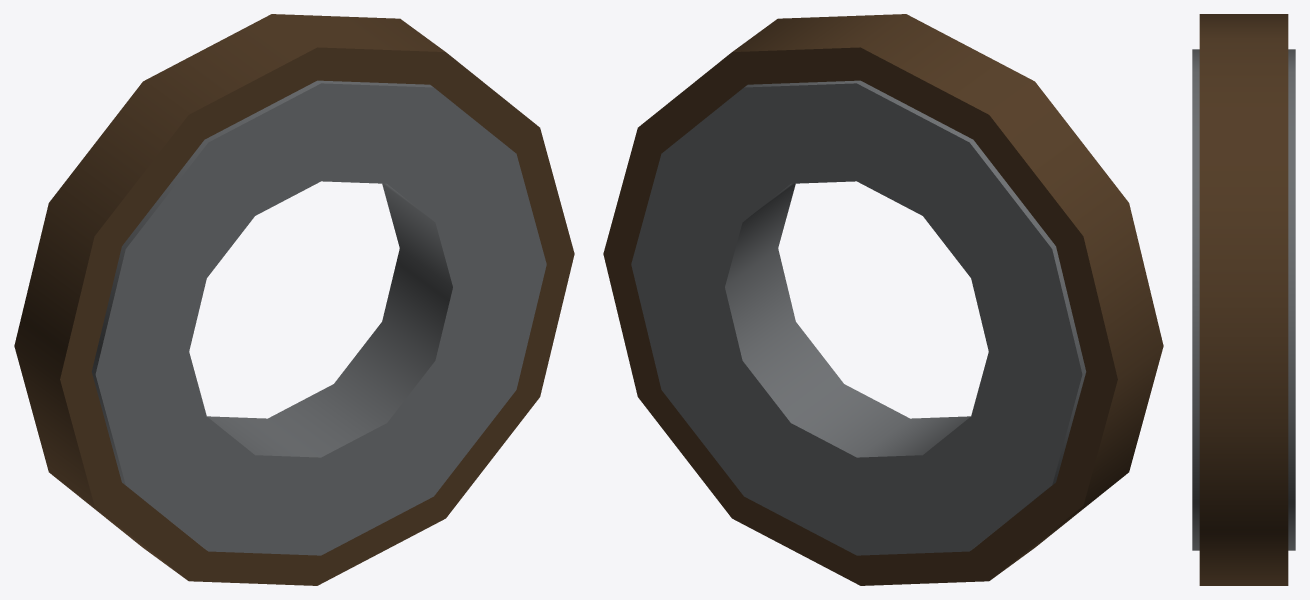
The model's file is u65m_coil_ring.obj.
3 views of the same model, side by side, from view 1: azimuth 30°, elevation 25°; view 2: azimuth 150°, elevation 25°; view 3: azimuth 270°, elevation 25° (orthographic). The views are drawn at different scales.
Parts seen in each view (by area): view 1: u65m_coil_ring; view 2: u65m_coil_ring; view 3: u65m_coil_ring.
Part boxes in pixels (x1,y1,x2,y2): u65m_coil_ring: [14, 14, 574, 585]; u65m_coil_ring: [603, 14, 1163, 585]; u65m_coil_ring: [1192, 14, 1295, 585].
Bounding box in the file's own units: 3.9 × 3.9 × 0.7.
